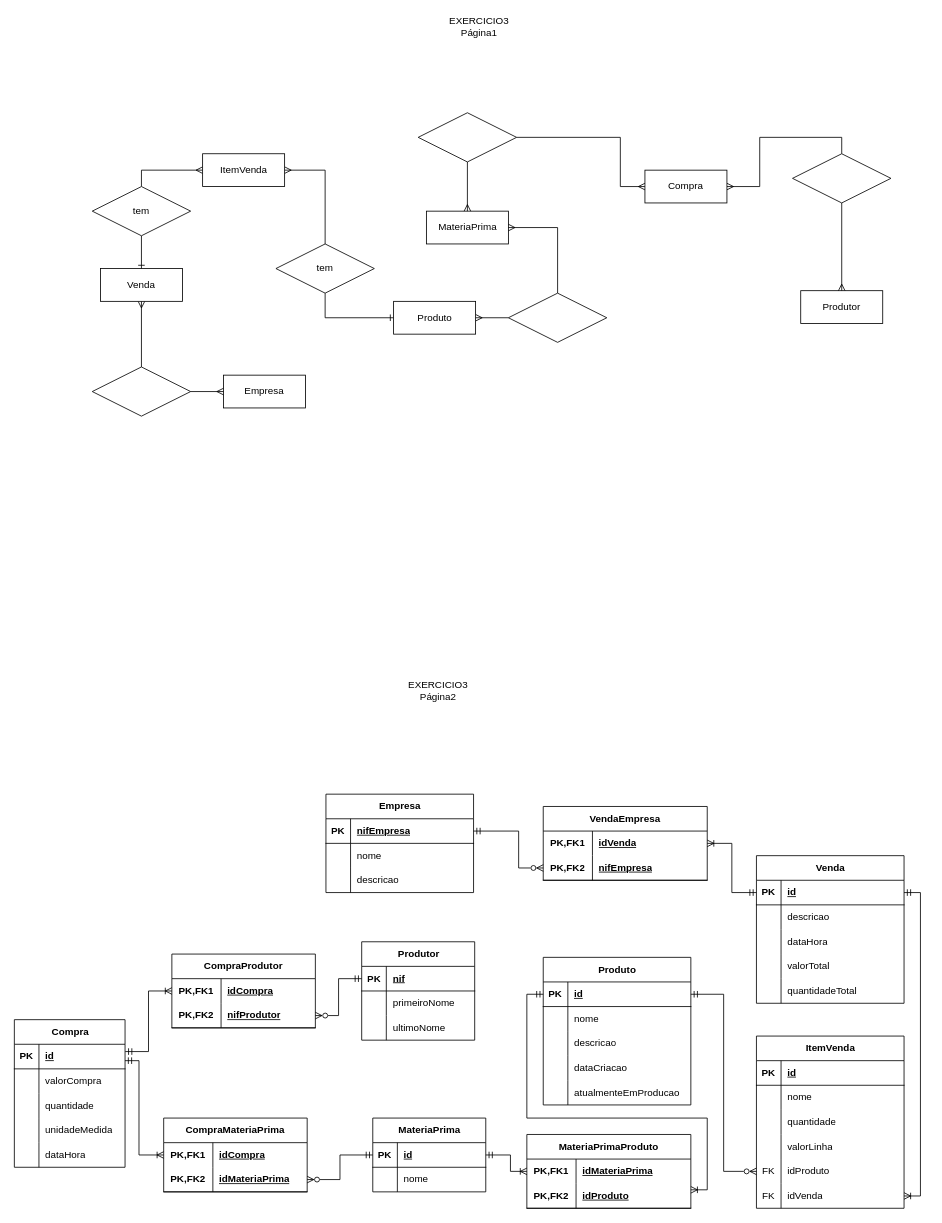
The diagram is 942 pixels wide and 1223 high, and some of its shapes have lost their labels. The centre of each missing label's shape, as x and y in pixels:
"contém" belongs at point 467,137.
"faz" belongs at point 841,178.
"produz" belongs at point 557,317.
"realizada" belongs at point 141,391.
